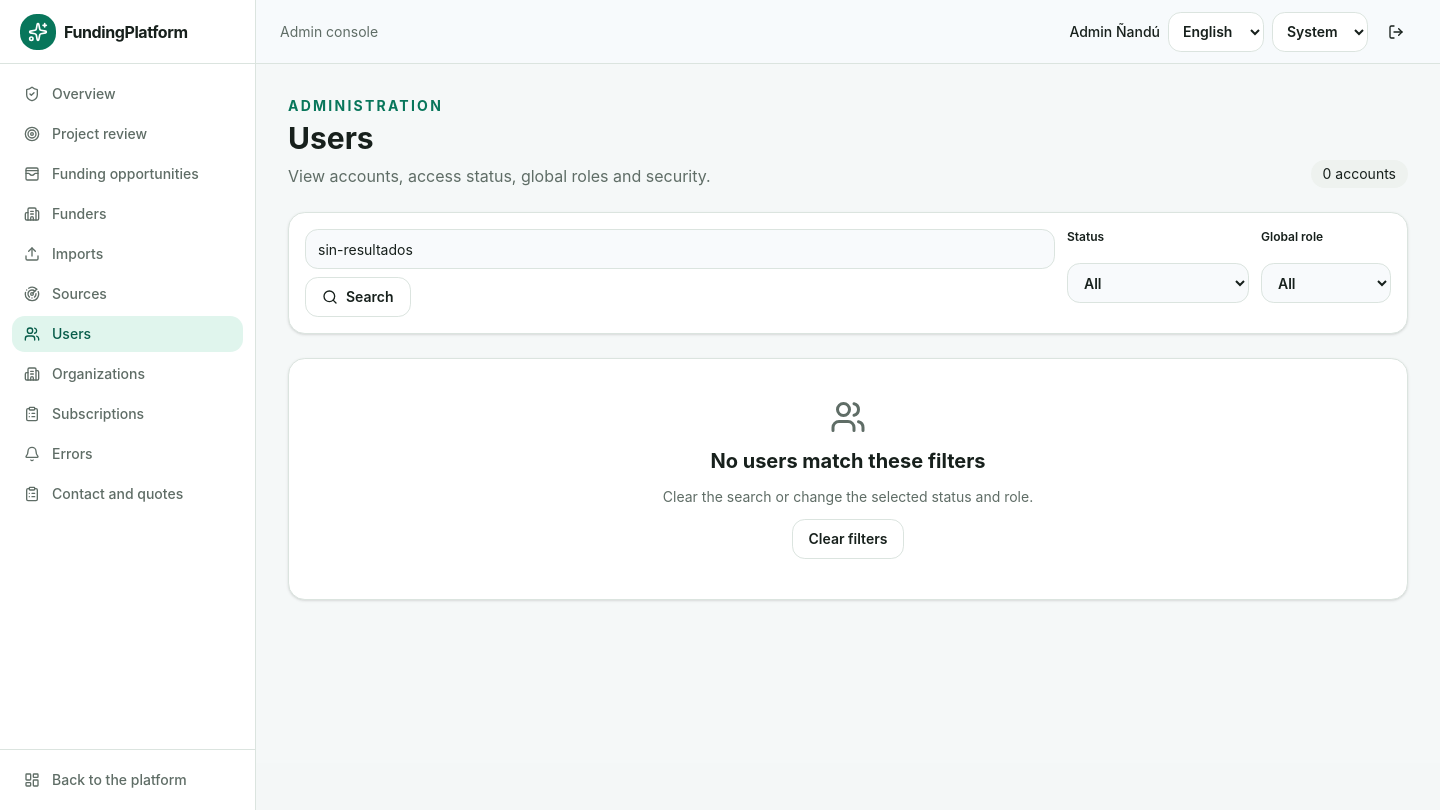
Test: I18N05D operational read views › translates empty state and clears filters explicitly on /admin/users
Expected: the heading "Users" is shown, [288,120,374,156]
Expected: the heading "No users match these filters" is shown, [710,449,986,473]
Click the button "Clear filters".
click(848, 539)  # box [792,519,904,559]
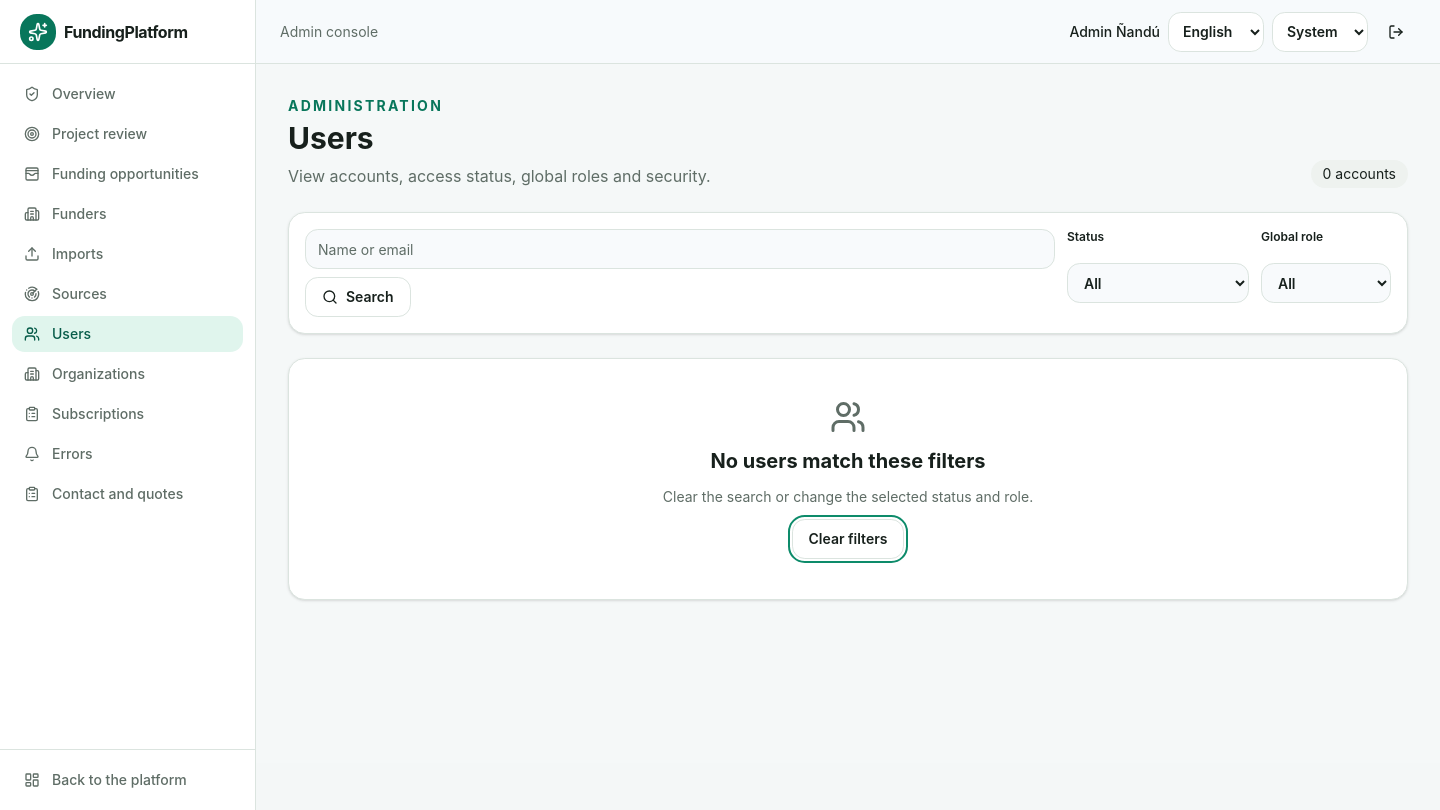
Expected: the field named "Search users" is empty, [305,229,1055,269]
